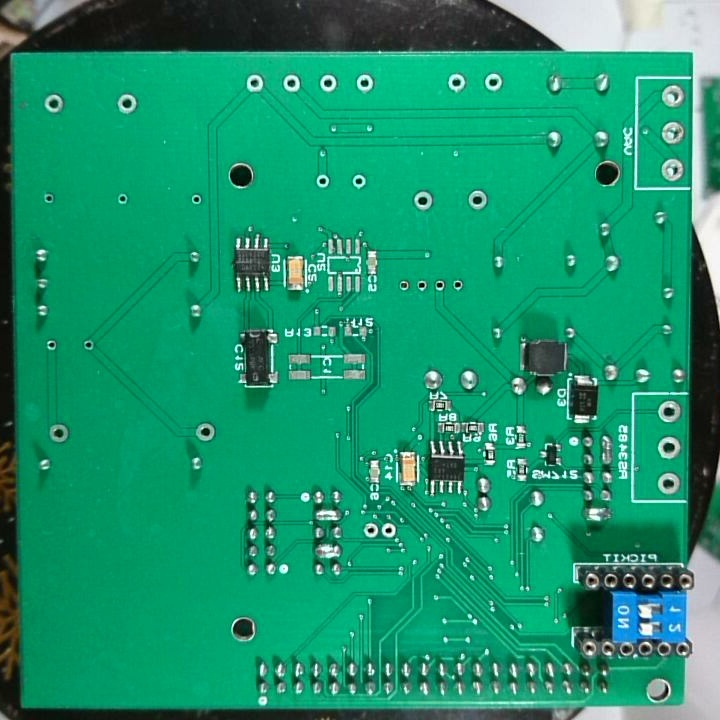F: (654, 433, 682, 462), (114, 89, 141, 119), (659, 118, 687, 146), (659, 83, 685, 110), (659, 156, 685, 183), (657, 398, 682, 426), (45, 420, 71, 446), (656, 470, 681, 497), (465, 187, 490, 214), (243, 72, 269, 96), (192, 420, 216, 445), (444, 71, 469, 95), (411, 189, 435, 213), (42, 91, 65, 116), (317, 70, 340, 95), (481, 71, 506, 93), (280, 72, 303, 95), (354, 72, 377, 95), (431, 274, 450, 298), (449, 274, 466, 300), (361, 519, 379, 542), (348, 172, 368, 192), (379, 520, 398, 540), (314, 172, 332, 191), (79, 335, 96, 355), (114, 189, 131, 209), (414, 275, 429, 297), (397, 276, 413, 296), (188, 189, 202, 211), (44, 335, 60, 353), (41, 190, 57, 208)
P: (313, 506, 343, 526), (581, 503, 611, 523), (311, 543, 345, 560), (599, 432, 614, 469)
